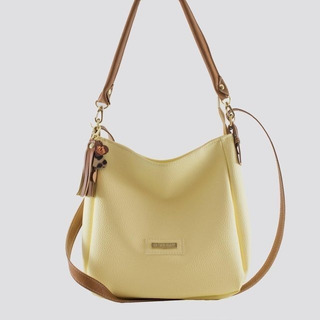cartera: (63, 1, 287, 302)
